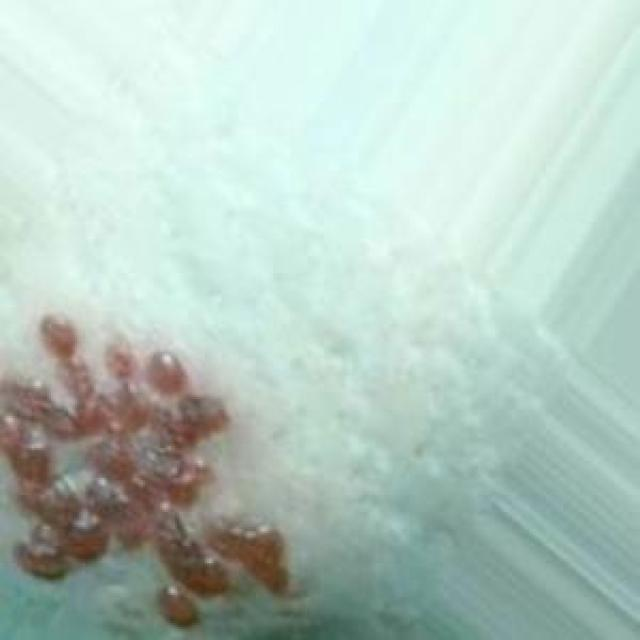Shingles: (0, 300, 289, 624)
